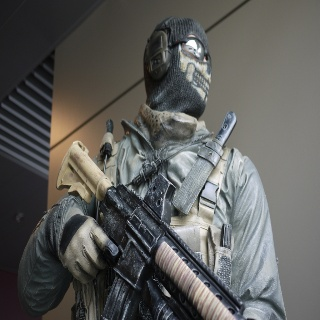rifle: (56, 139, 256, 320)
